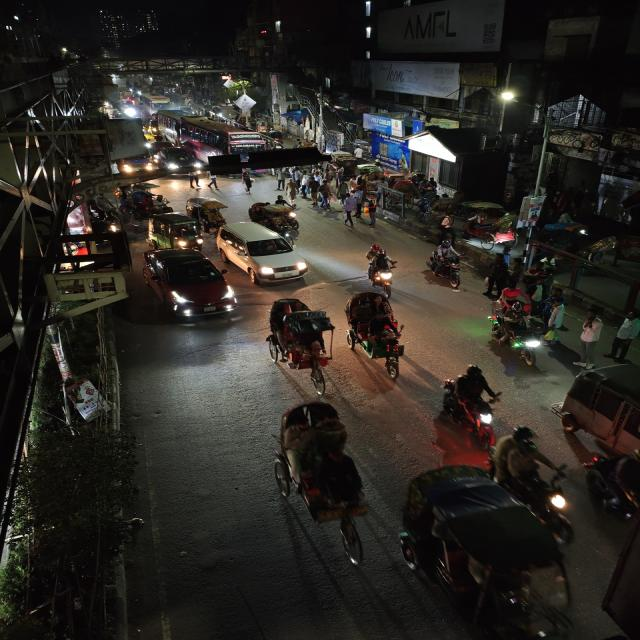bus: (158, 111, 266, 160), (143, 92, 171, 110)
car: (140, 247, 239, 323), (214, 220, 311, 283), (154, 146, 202, 176)
cng: (396, 462, 582, 640), (147, 213, 204, 250)
motorcycle: (502, 425, 572, 521), (435, 365, 508, 437), (485, 311, 555, 365), (423, 249, 468, 292), (364, 244, 400, 293), (239, 173, 258, 195)
pedestrian: (609, 312, 639, 360), (575, 315, 606, 361), (481, 258, 508, 296), (546, 300, 571, 334), (497, 283, 524, 313), (360, 196, 381, 228), (340, 194, 359, 228), (315, 186, 332, 212), (186, 172, 206, 194), (302, 176, 318, 200), (206, 174, 221, 192)
pickup_van: (120, 152, 158, 176)
rickshaw: (266, 398, 374, 571), (261, 295, 337, 393), (343, 288, 414, 380), (114, 186, 173, 225), (260, 196, 303, 228), (196, 198, 230, 232)
